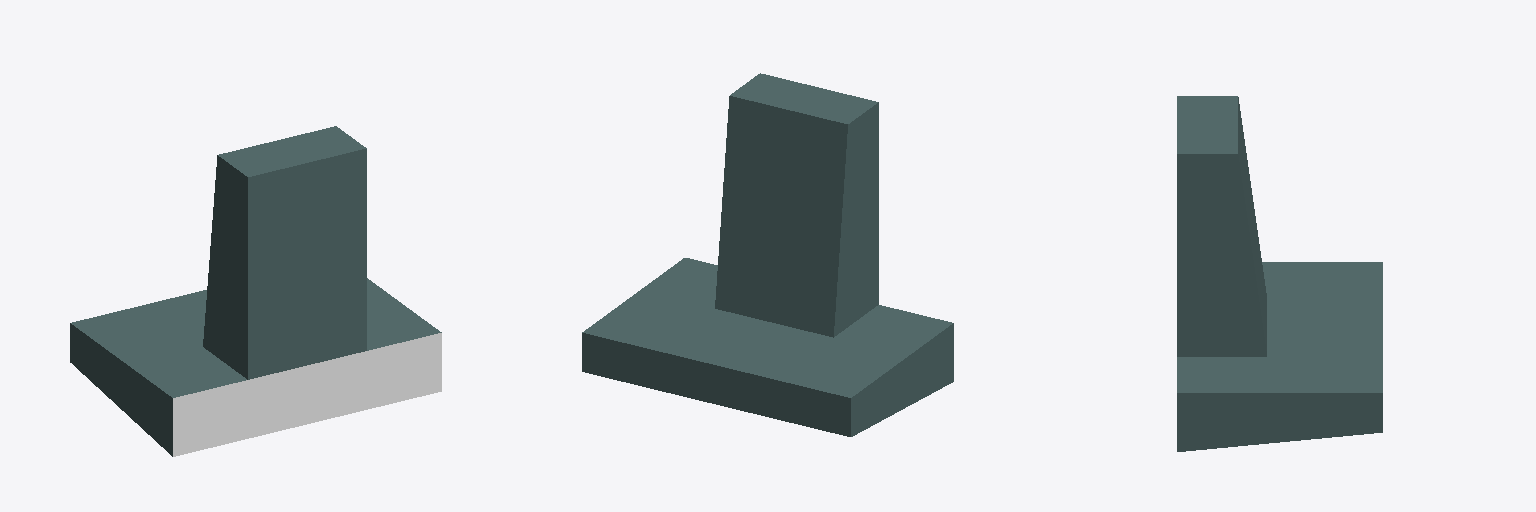
File: hoodModern.obj
3 renders of one model, left to right at view 1: azimuth 30°, elevation 25°; view 2: azimuth 150°, elevation 25°; view 3: azimuth 270°, elevation 25°, orthographic.
Visible parts, largest first — view 1: hoodModern; view 2: hoodModern; view 3: hoodModern.
Part boxes in pixels (bbox=[...]): hoodModern: bbox=[70, 126, 441, 456]; hoodModern: bbox=[582, 73, 953, 436]; hoodModern: bbox=[1177, 96, 1382, 451].
Size of the model in its own units: 0.43 by 0.3995 by 0.2849.